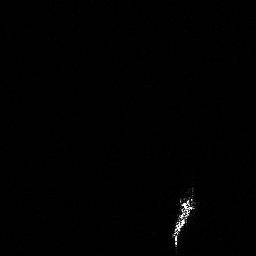ship: (170, 191, 197, 248)
